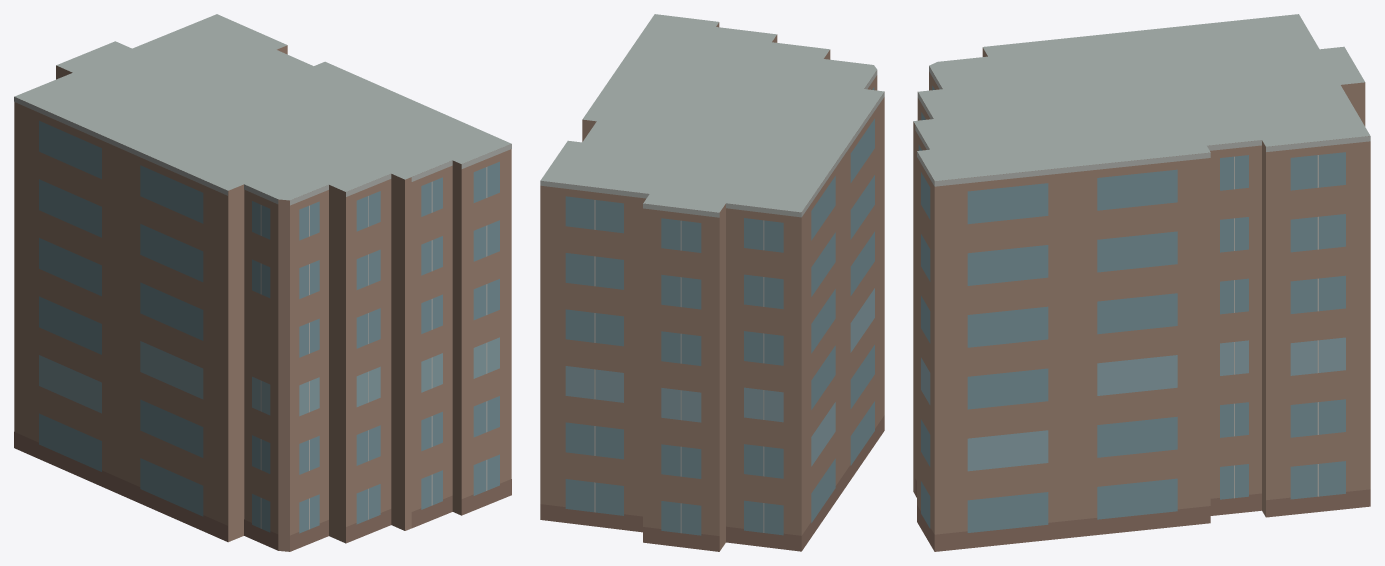
The model's file is survey-upis-32621272.glb.
3 renders of one model, left to right at view 1: azimuth 30°, elevation 25°; view 2: azimuth 150°, elevation 25°; view 3: azimuth 270°, elevation 25°, orthographic. The views are drawn at different scales.
Visible parts, largest first — view 1: survey-upis-32621272.tmp; view 2: survey-upis-32621272.tmp; view 3: survey-upis-32621272.tmp.
Boxes of the visible parts, bbox=[...] form: survey-upis-32621272.tmp: bbox=[14, 14, 511, 551]; survey-upis-32621272.tmp: bbox=[540, 14, 884, 551]; survey-upis-32621272.tmp: bbox=[913, 14, 1370, 551].
Size of the model in its own units: 16.07 by 16.6 by 18.56.
